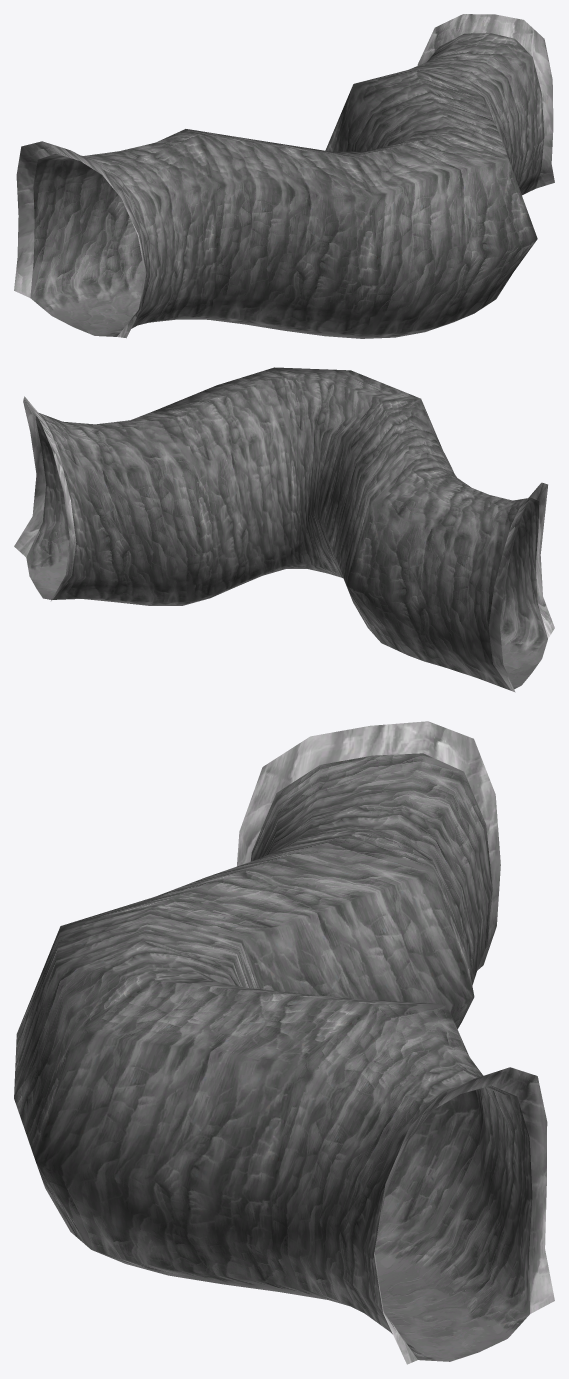
Rendered from SWORDLIGHT20_PS-AREA03_19.fbx.
3 views of the same model, one above another, from view 1: azimuth 30°, elevation 25°; view 2: azimuth 150°, elevation 25°; view 3: azimuth 270°, elevation 25° (orthographic). The views are drawn at different scales.
Parts seen in each view (by area): view 1: SWORDLIGHT20_PS-AREA03_19; view 2: SWORDLIGHT20_PS-AREA03_19; view 3: SWORDLIGHT20_PS-AREA03_19.
Boxes of the visible parts, x1,y1,x2,y2 form: SWORDLIGHT20_PS-AREA03_19: (14, 14, 554, 338); SWORDLIGHT20_PS-AREA03_19: (14, 367, 554, 692); SWORDLIGHT20_PS-AREA03_19: (14, 721, 554, 1364).
Size of the model in its own units: 230773 by 79981 by 132328.
4 materials, 4 textured.
